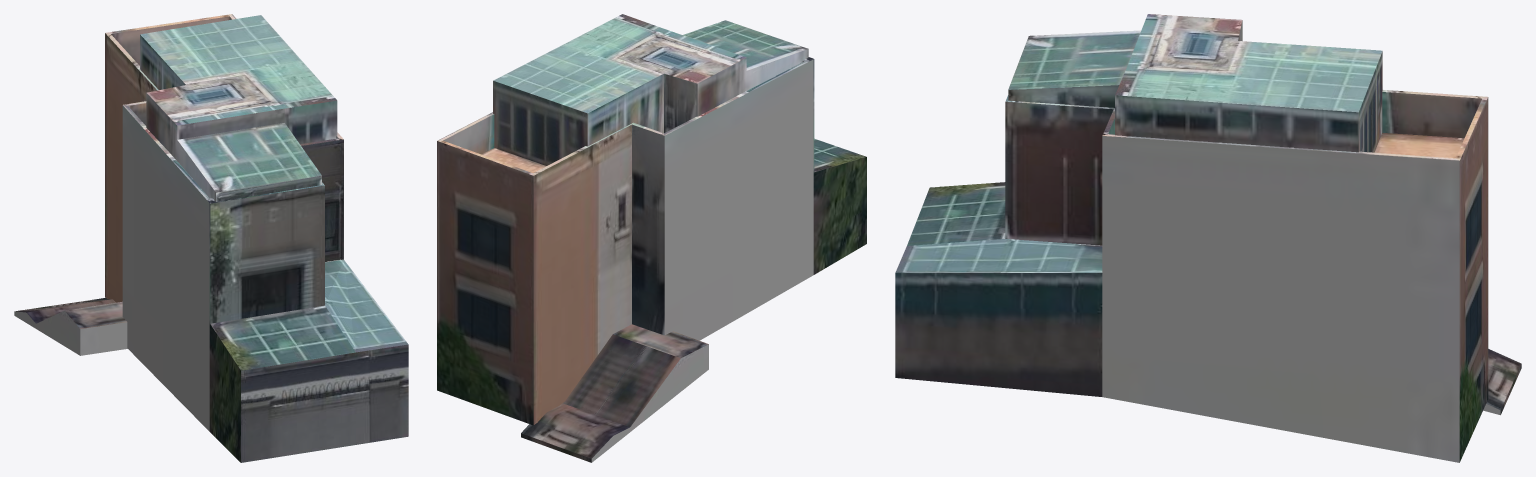
3 views of the same model, side by side, from view 1: azimuth 30°, elevation 25°; view 2: azimuth 150°, elevation 25°; view 3: azimuth 270°, elevation 25° (orthographic). The views are drawn at different scales.
Parts seen in each view (by area): view 1: B279974034401063A0; view 2: B279974034401063A0; view 3: B279974034401063A0.
Boxes of the visible parts, box(x1,y1,x2,y2) form: B279974034401063A0: box(14, 14, 408, 462); B279974034401063A0: box(437, 14, 866, 462); B279974034401063A0: box(895, 14, 1521, 462).
Size of the model in its own units: 8.57 by 11.37 by 18.23.
Materials: 1 (1 with a texture image).
